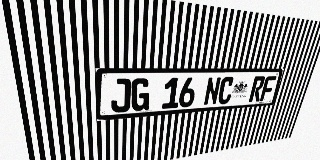1: (162, 77, 181, 109)
6: (178, 77, 197, 108)
C: (217, 77, 235, 105)
F: (260, 76, 277, 101)
G: (131, 78, 150, 111)
J: (111, 78, 131, 113)
N: (203, 77, 221, 106)
R: (248, 76, 266, 102)
